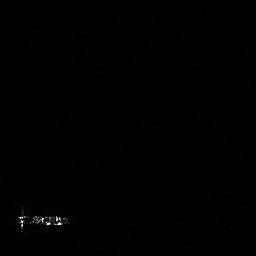ship: (13, 205, 72, 235)
